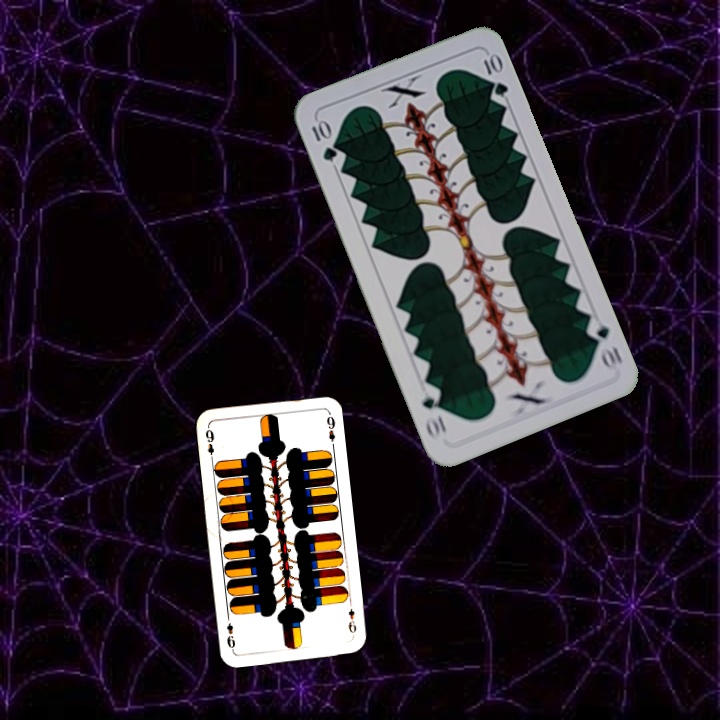E9: (201, 425, 217, 464), (344, 604, 359, 638)
G10: (582, 314, 625, 371), (307, 116, 340, 164)
